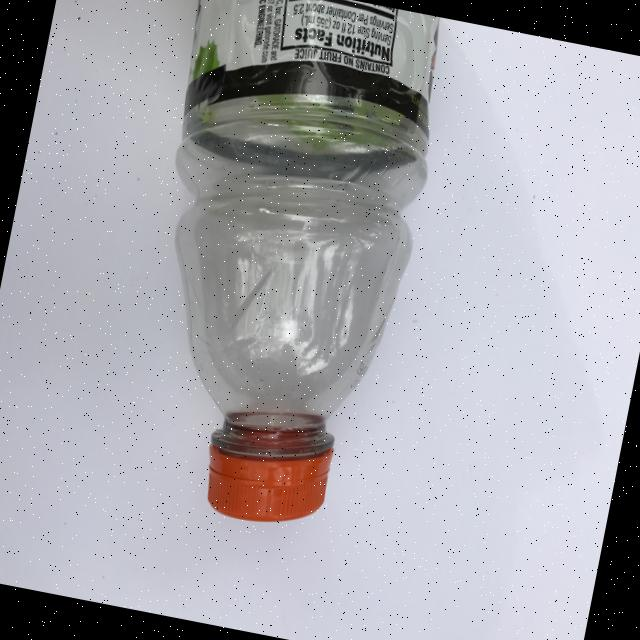plastic: (69, 0, 478, 548)
